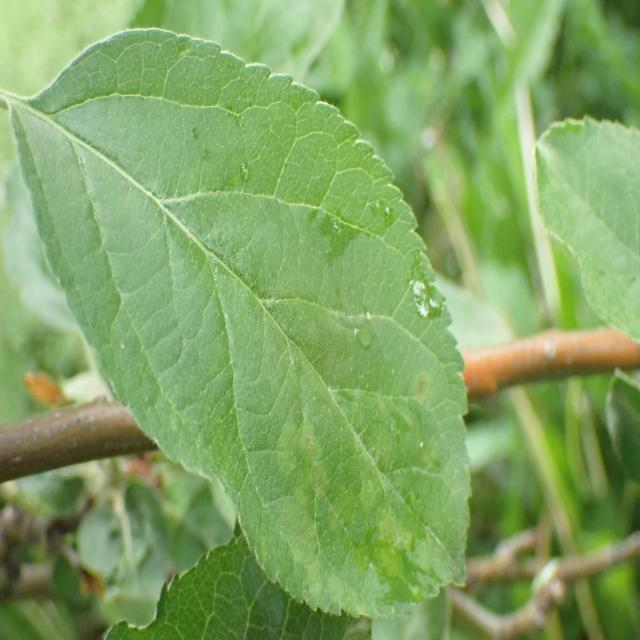scab: (239, 258, 472, 620)
